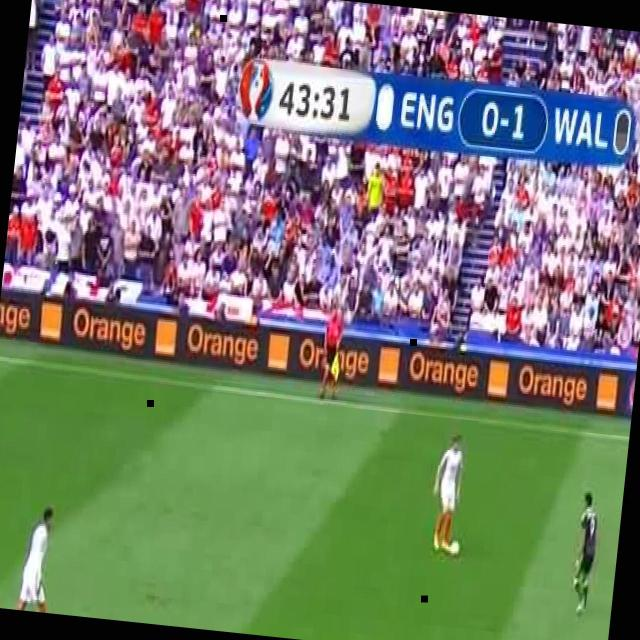ball: (450, 539, 462, 559)
player-white: (12, 502, 68, 614), (427, 431, 466, 556), (569, 489, 603, 616), (320, 306, 346, 400)
